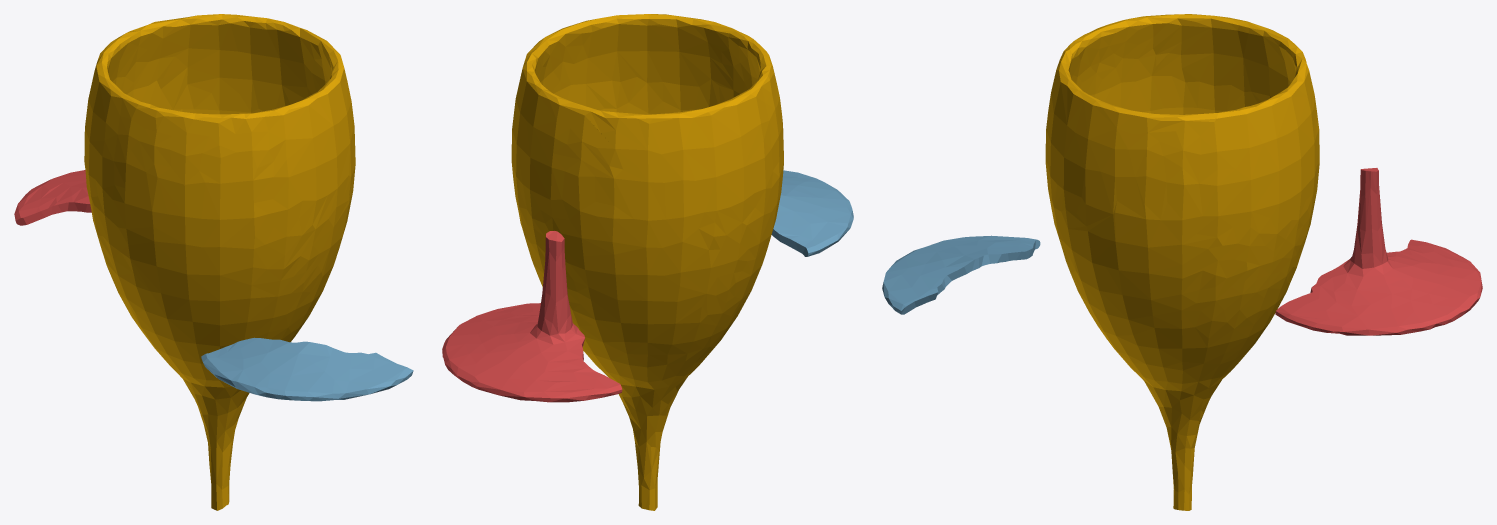
The model's file is fractured_43_3pcs_transformed.glb.
3 renders of one model, left to right at view 1: azimuth 30°, elevation 25°; view 2: azimuth 150°, elevation 25°; view 3: azimuth 270°, elevation 25°, orthographic.
Parts seen in each view (by area): view 1: piece_0.obj, piece_2.obj, piece_1.obj; view 2: piece_0.obj, piece_1.obj, piece_2.obj; view 3: piece_0.obj, piece_1.obj, piece_2.obj.
Boxes of the visible parts, x1,y1,x2,y2 form: piece_0.obj: [84, 14, 355, 510]; piece_2.obj: [201, 337, 413, 401]; piece_1.obj: [14, 170, 91, 225]; piece_0.obj: [511, 14, 783, 510]; piece_1.obj: [442, 231, 622, 402]; piece_2.obj: [771, 170, 853, 256]; piece_0.obj: [1045, 14, 1319, 510]; piece_1.obj: [1275, 168, 1482, 335]; piece_2.obj: [882, 235, 1040, 314].
Size of the model in its own units: 0.4397 by 0.7907 by 0.9629.
